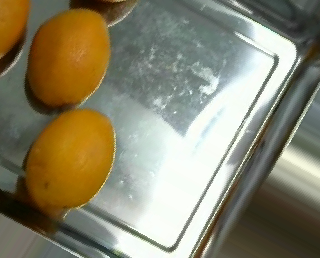Orange: (24, 106, 116, 215), (25, 7, 110, 105)
